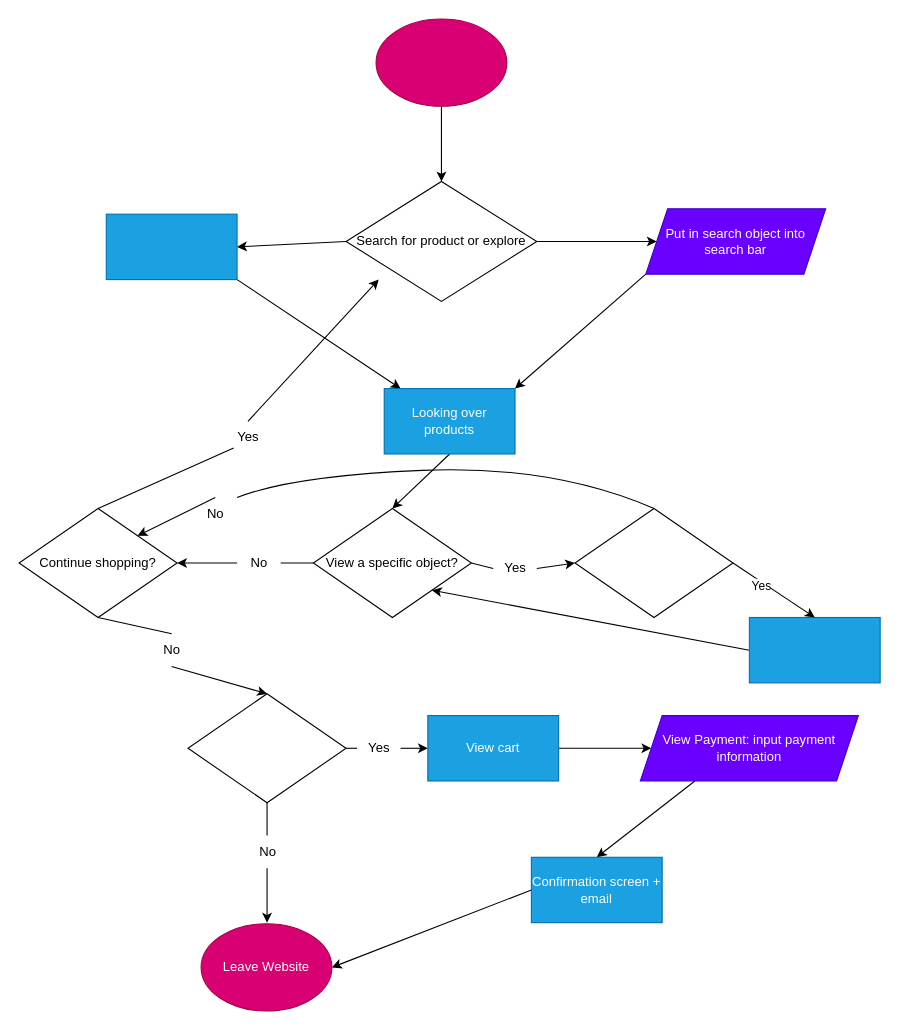
The diagram is 899 pixels wide and 1030 high, and some of its shapes have lost their labels. The shapes that lost their labels are listed below. From the top down, each one's centre as x and y in pixels, then its label:
At (441,62): "User enter website: Home Page".
At (171,246): "Exploring products on home page".
At (653,562): "Add to cart?".
At (814,649): "Add to cart notification".
At (266,748): "Checkout?".
